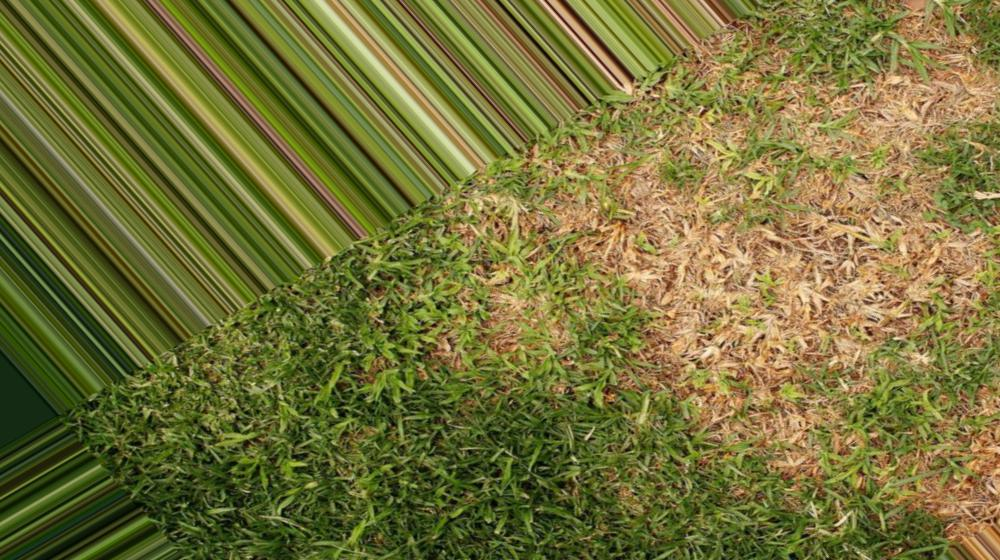patch: (626, 121, 911, 405)
